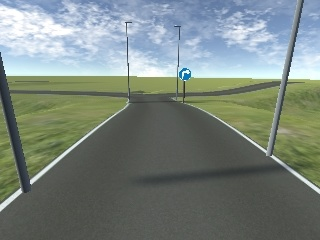turn_right_sign: (175, 65, 192, 80)
